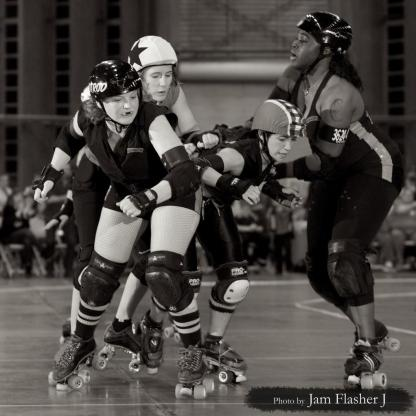Helmet: (82, 61, 142, 131), (295, 9, 349, 79), (248, 95, 302, 161), (121, 33, 180, 68)
